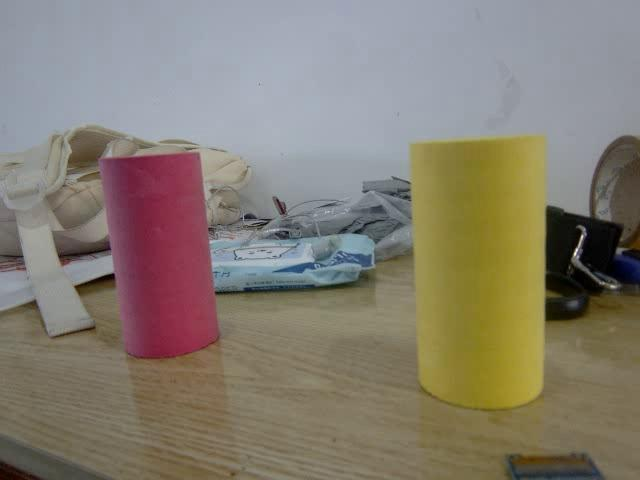red_cylinder: (98, 149, 219, 359)
yellow_cylinder: (411, 135, 547, 411)
